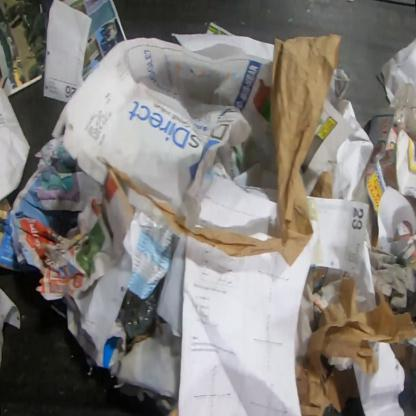rigid_plastic: (116, 289, 160, 340)
soft_plastic: (387, 82, 415, 143)
